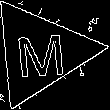M_N: (12, 25, 68, 79)
